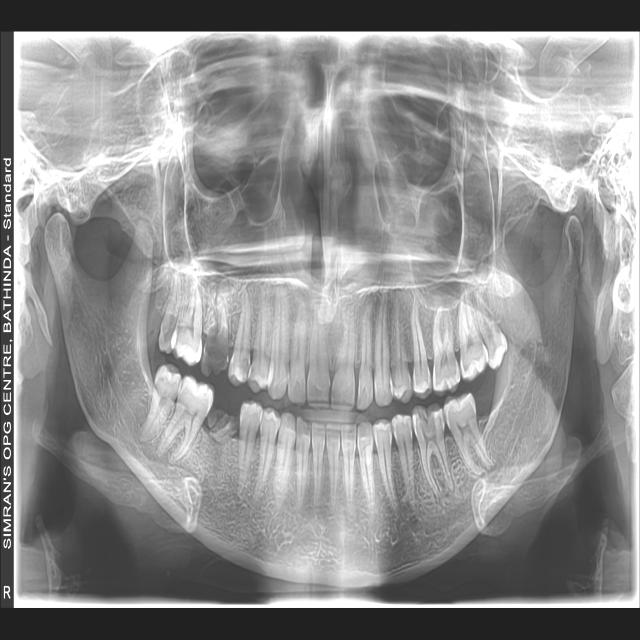Caries: (247, 366, 250, 378), (443, 412, 446, 421), (392, 426, 395, 433), (390, 423, 392, 433), (411, 419, 413, 429), (443, 415, 445, 423)
Mandibular Canal: (93, 328, 237, 524), (413, 342, 542, 537)
Periapical lesion: (447, 469, 455, 494), (487, 463, 497, 474)
Root Piece: (201, 295, 229, 377), (206, 408, 239, 442), (216, 279, 232, 338)
maxillary sinus: (373, 95, 495, 311)
